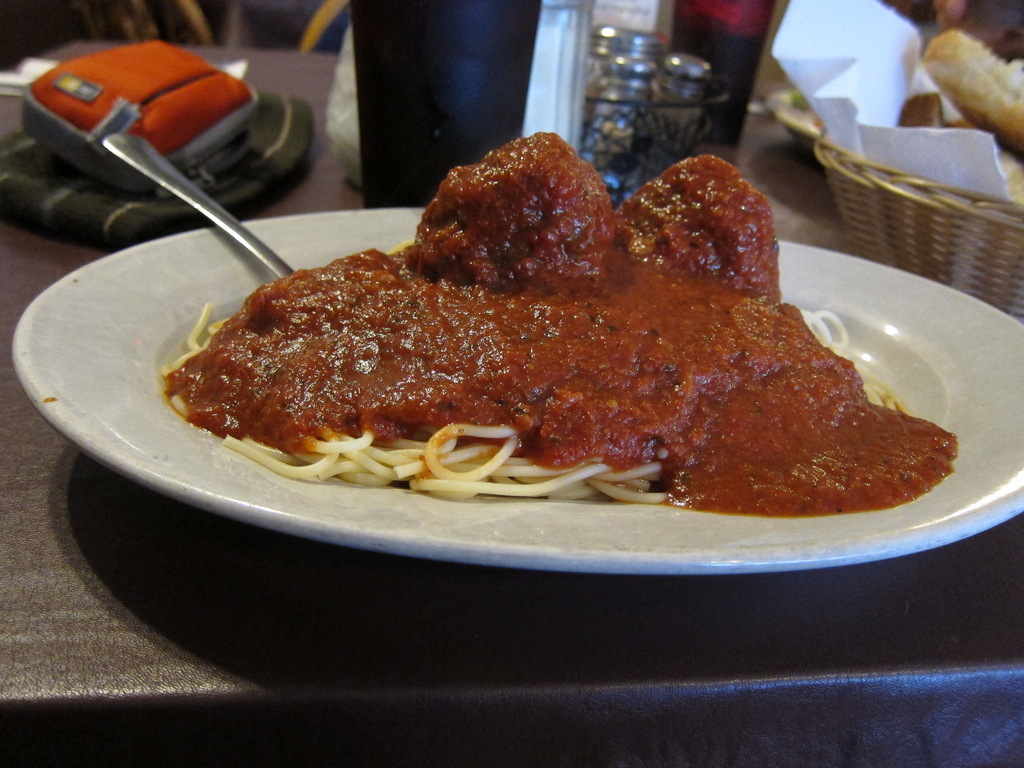meatballs: (436, 139, 607, 287), (634, 152, 782, 316)
plain spaghetti: (206, 413, 679, 518)
